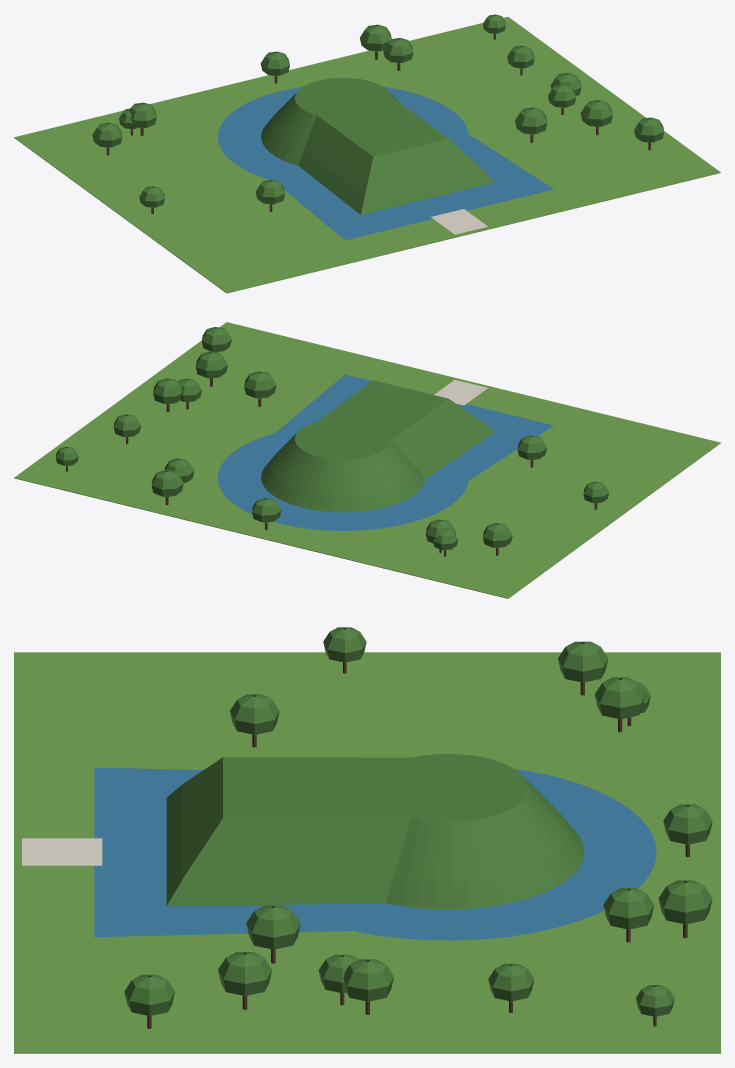
The model's file is ancient_ruins.glb.
3 renders of one model, top to bottom at view 1: azimuth 30°, elevation 25°; view 2: azimuth 150°, elevation 25°; view 3: azimuth 270°, elevation 25°, orthographic. The views are drawn at different scales.
Parts seen in each view (by area): view 1: Kofun_static; view 2: Kofun_static; view 3: Kofun_static.
Part boxes in pixels (<box>): Kofun_static: <box>14,14,720,293</box>; Kofun_static: <box>14,322,720,598</box>; Kofun_static: <box>14,627,720,1053</box>.
Size of the model in its own units: 118 by 9 by 88.
